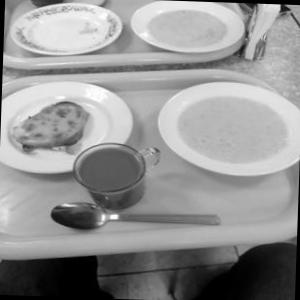cheese_sandwich: (6, 98, 96, 156)
coffee: (70, 136, 170, 218)
porridge: (168, 81, 300, 173), (141, 4, 234, 58)
